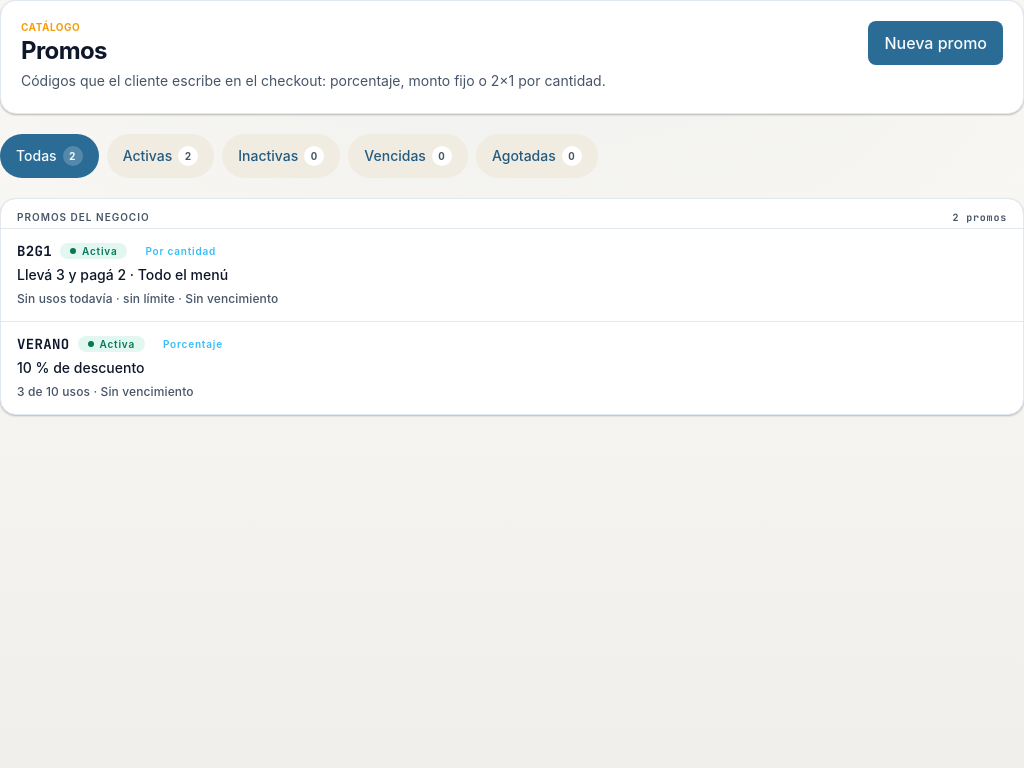
Test: AdminPromotionsPage › abre una promo guardada con sus valores y guarda el cambio
Step 1. Click the button with aria-label "Editar promo B2G1" → x=34, y=251, box [1,228,1023,321]
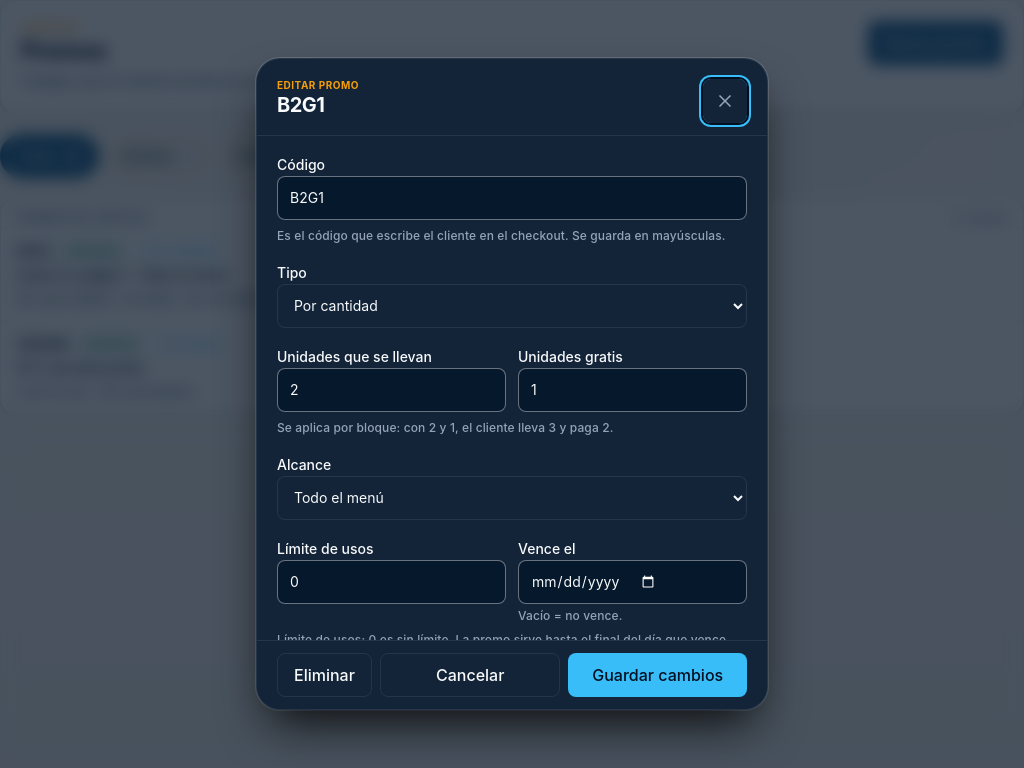
Check: the number field labelled "Unidades que se llevan" holds "2"
Step 2. Replace the text in the number field labelled "Unidades que se llevan" with "3" → x=392, y=390, box [277,368,506,412]
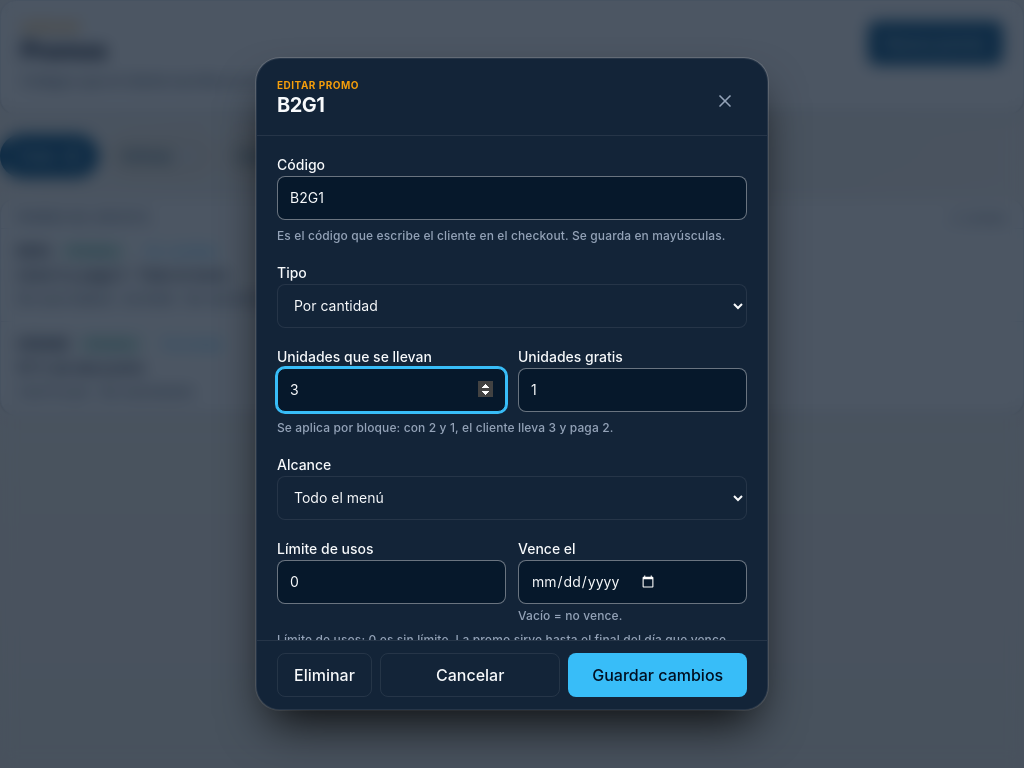
Step 3. Click the button "Guardar cambios" → x=658, y=675, box [568,653,747,697]
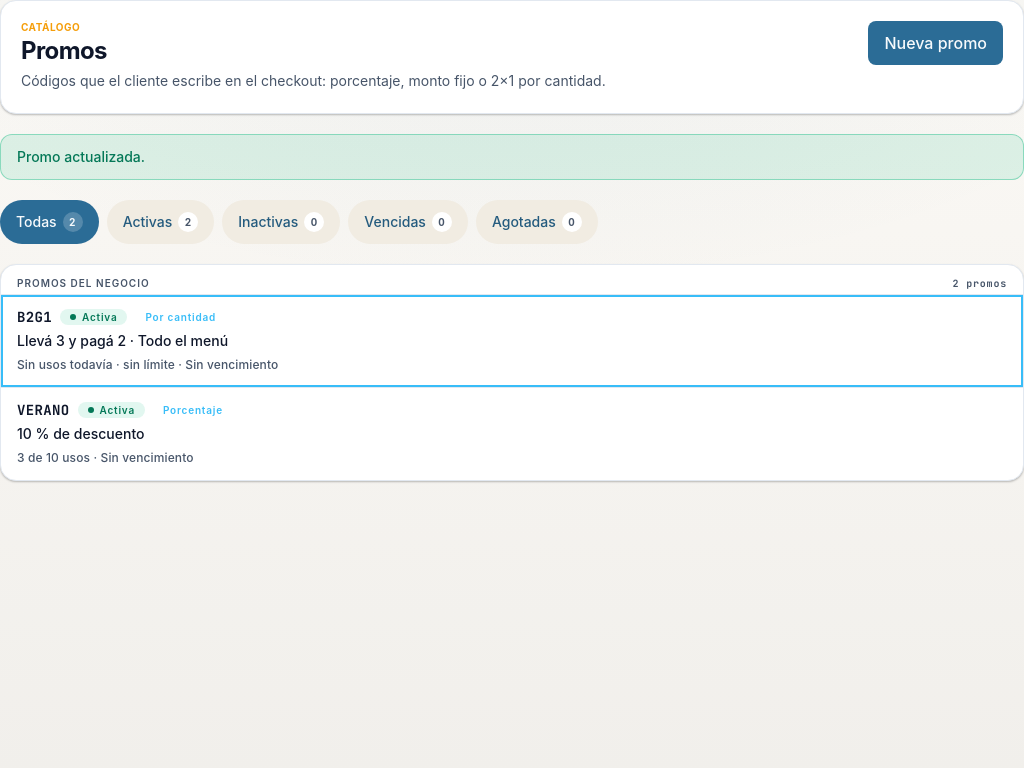
Check: the text "Promo actualizada." is shown, box [0,134,1023,180]
